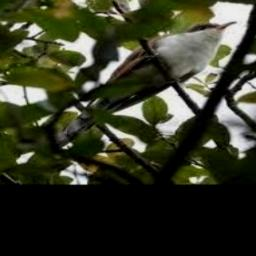Cuckoo: (52, 21, 236, 146)
